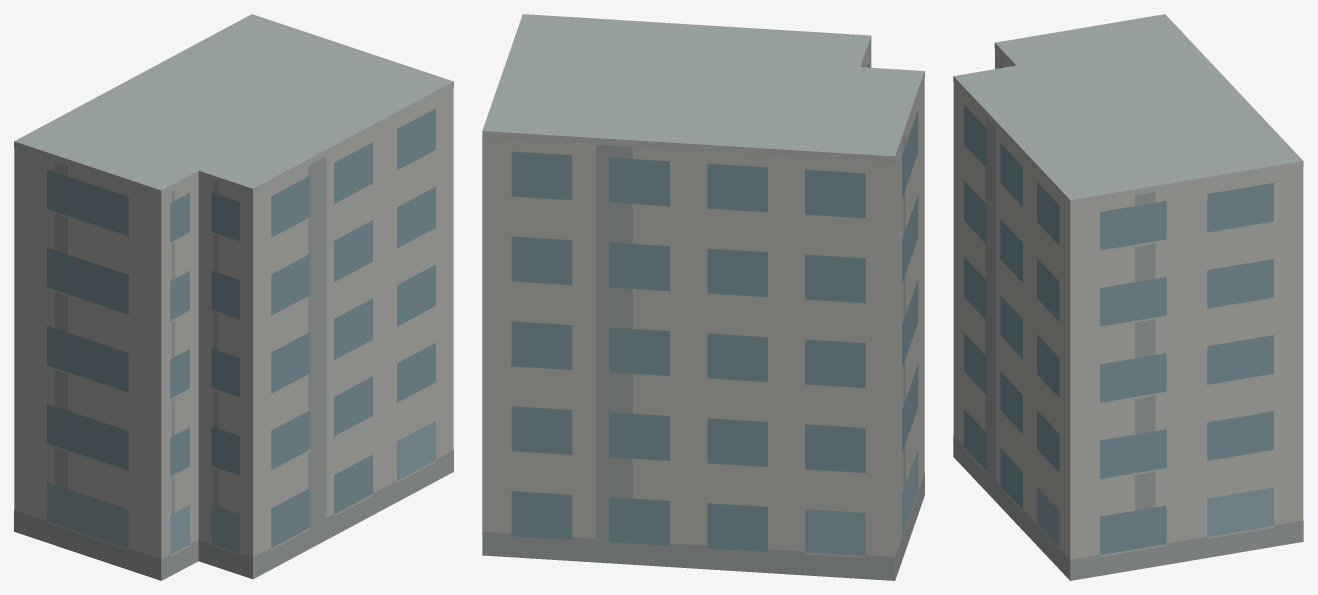
File: residential-cb3a2239-f939-4937-a3ad-db4831a5a992.glb
The picture shows the model from 3 angles, left to right: view 1: azimuth 30°, elevation 25°; view 2: azimuth 150°, elevation 25°; view 3: azimuth 270°, elevation 25°; orthographic projection. The views are drawn at different scales.
Visible parts, largest first — view 1: residential-cb3a2239-f939-4937-a3ad-db4831a5a992.tmp; view 2: residential-cb3a2239-f939-4937-a3ad-db4831a5a992.tmp; view 3: residential-cb3a2239-f939-4937-a3ad-db4831a5a992.tmp.
Boxes of the visible parts, bbox=[...] form: residential-cb3a2239-f939-4937-a3ad-db4831a5a992.tmp: bbox=[14, 14, 453, 580]; residential-cb3a2239-f939-4937-a3ad-db4831a5a992.tmp: bbox=[482, 14, 924, 580]; residential-cb3a2239-f939-4937-a3ad-db4831a5a992.tmp: bbox=[953, 14, 1303, 580].
Bounding box in the file's own units: 15.99 × 15.25 × 12.71.
